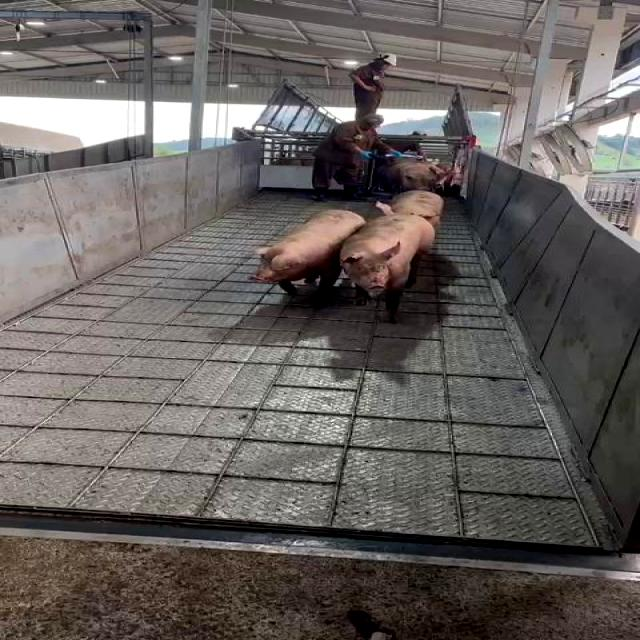pig: (252, 210, 364, 303), (340, 213, 434, 321), (390, 191, 442, 228)
